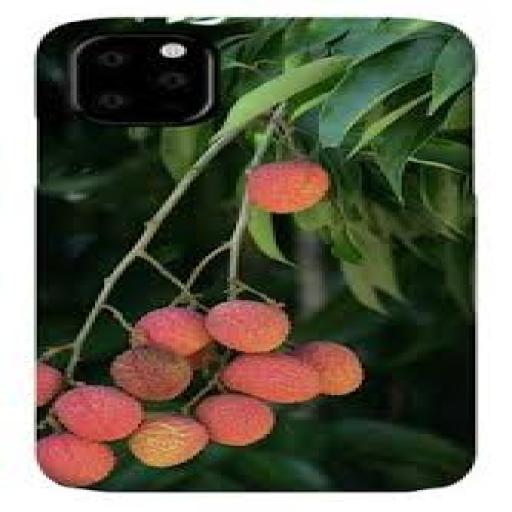lychee: (53, 385, 144, 440), (221, 353, 318, 403), (111, 346, 193, 401), (206, 301, 291, 352), (129, 414, 208, 467), (37, 433, 116, 486), (249, 162, 331, 213), (197, 394, 275, 445), (292, 341, 364, 395), (132, 307, 211, 356), (37, 362, 64, 406), (188, 345, 217, 371)
